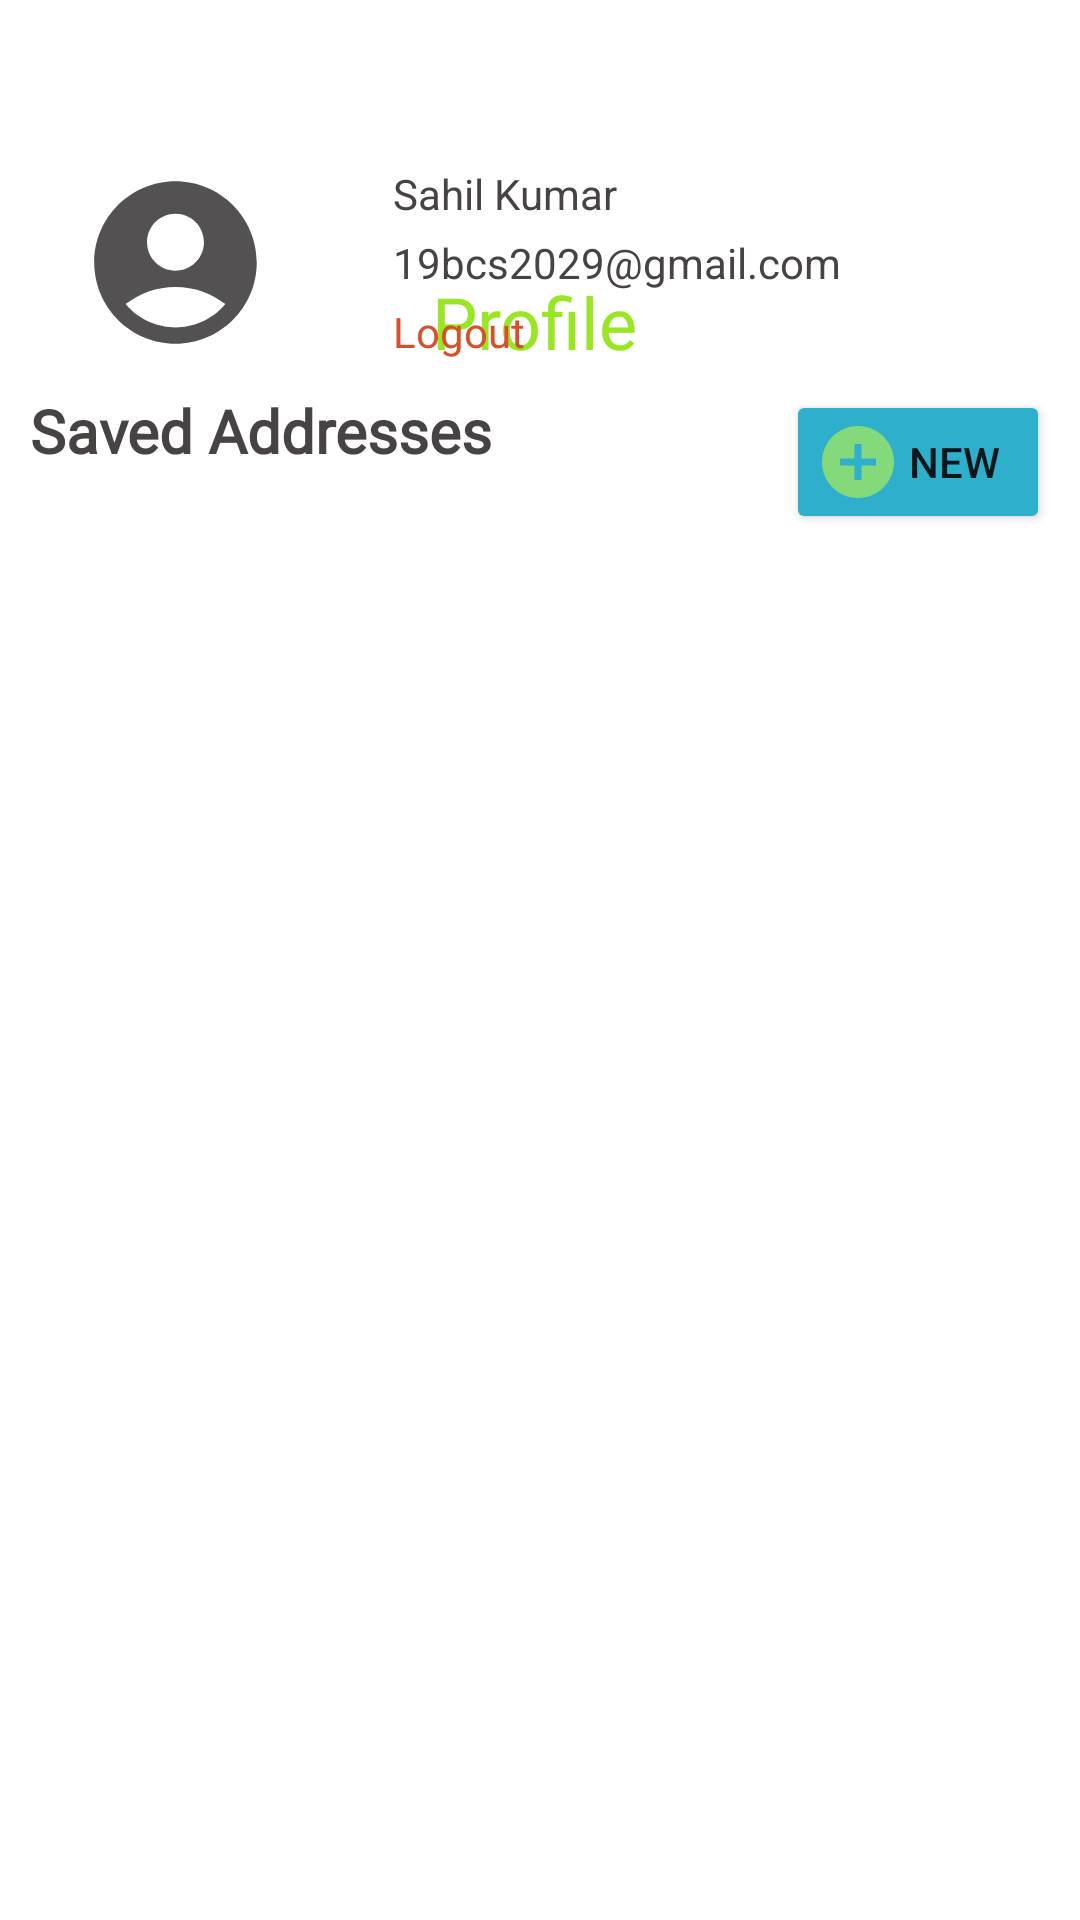

Icon click points for this 1080 × 1920 phone screenshot, format (x,y):
account circle: (175,262)
